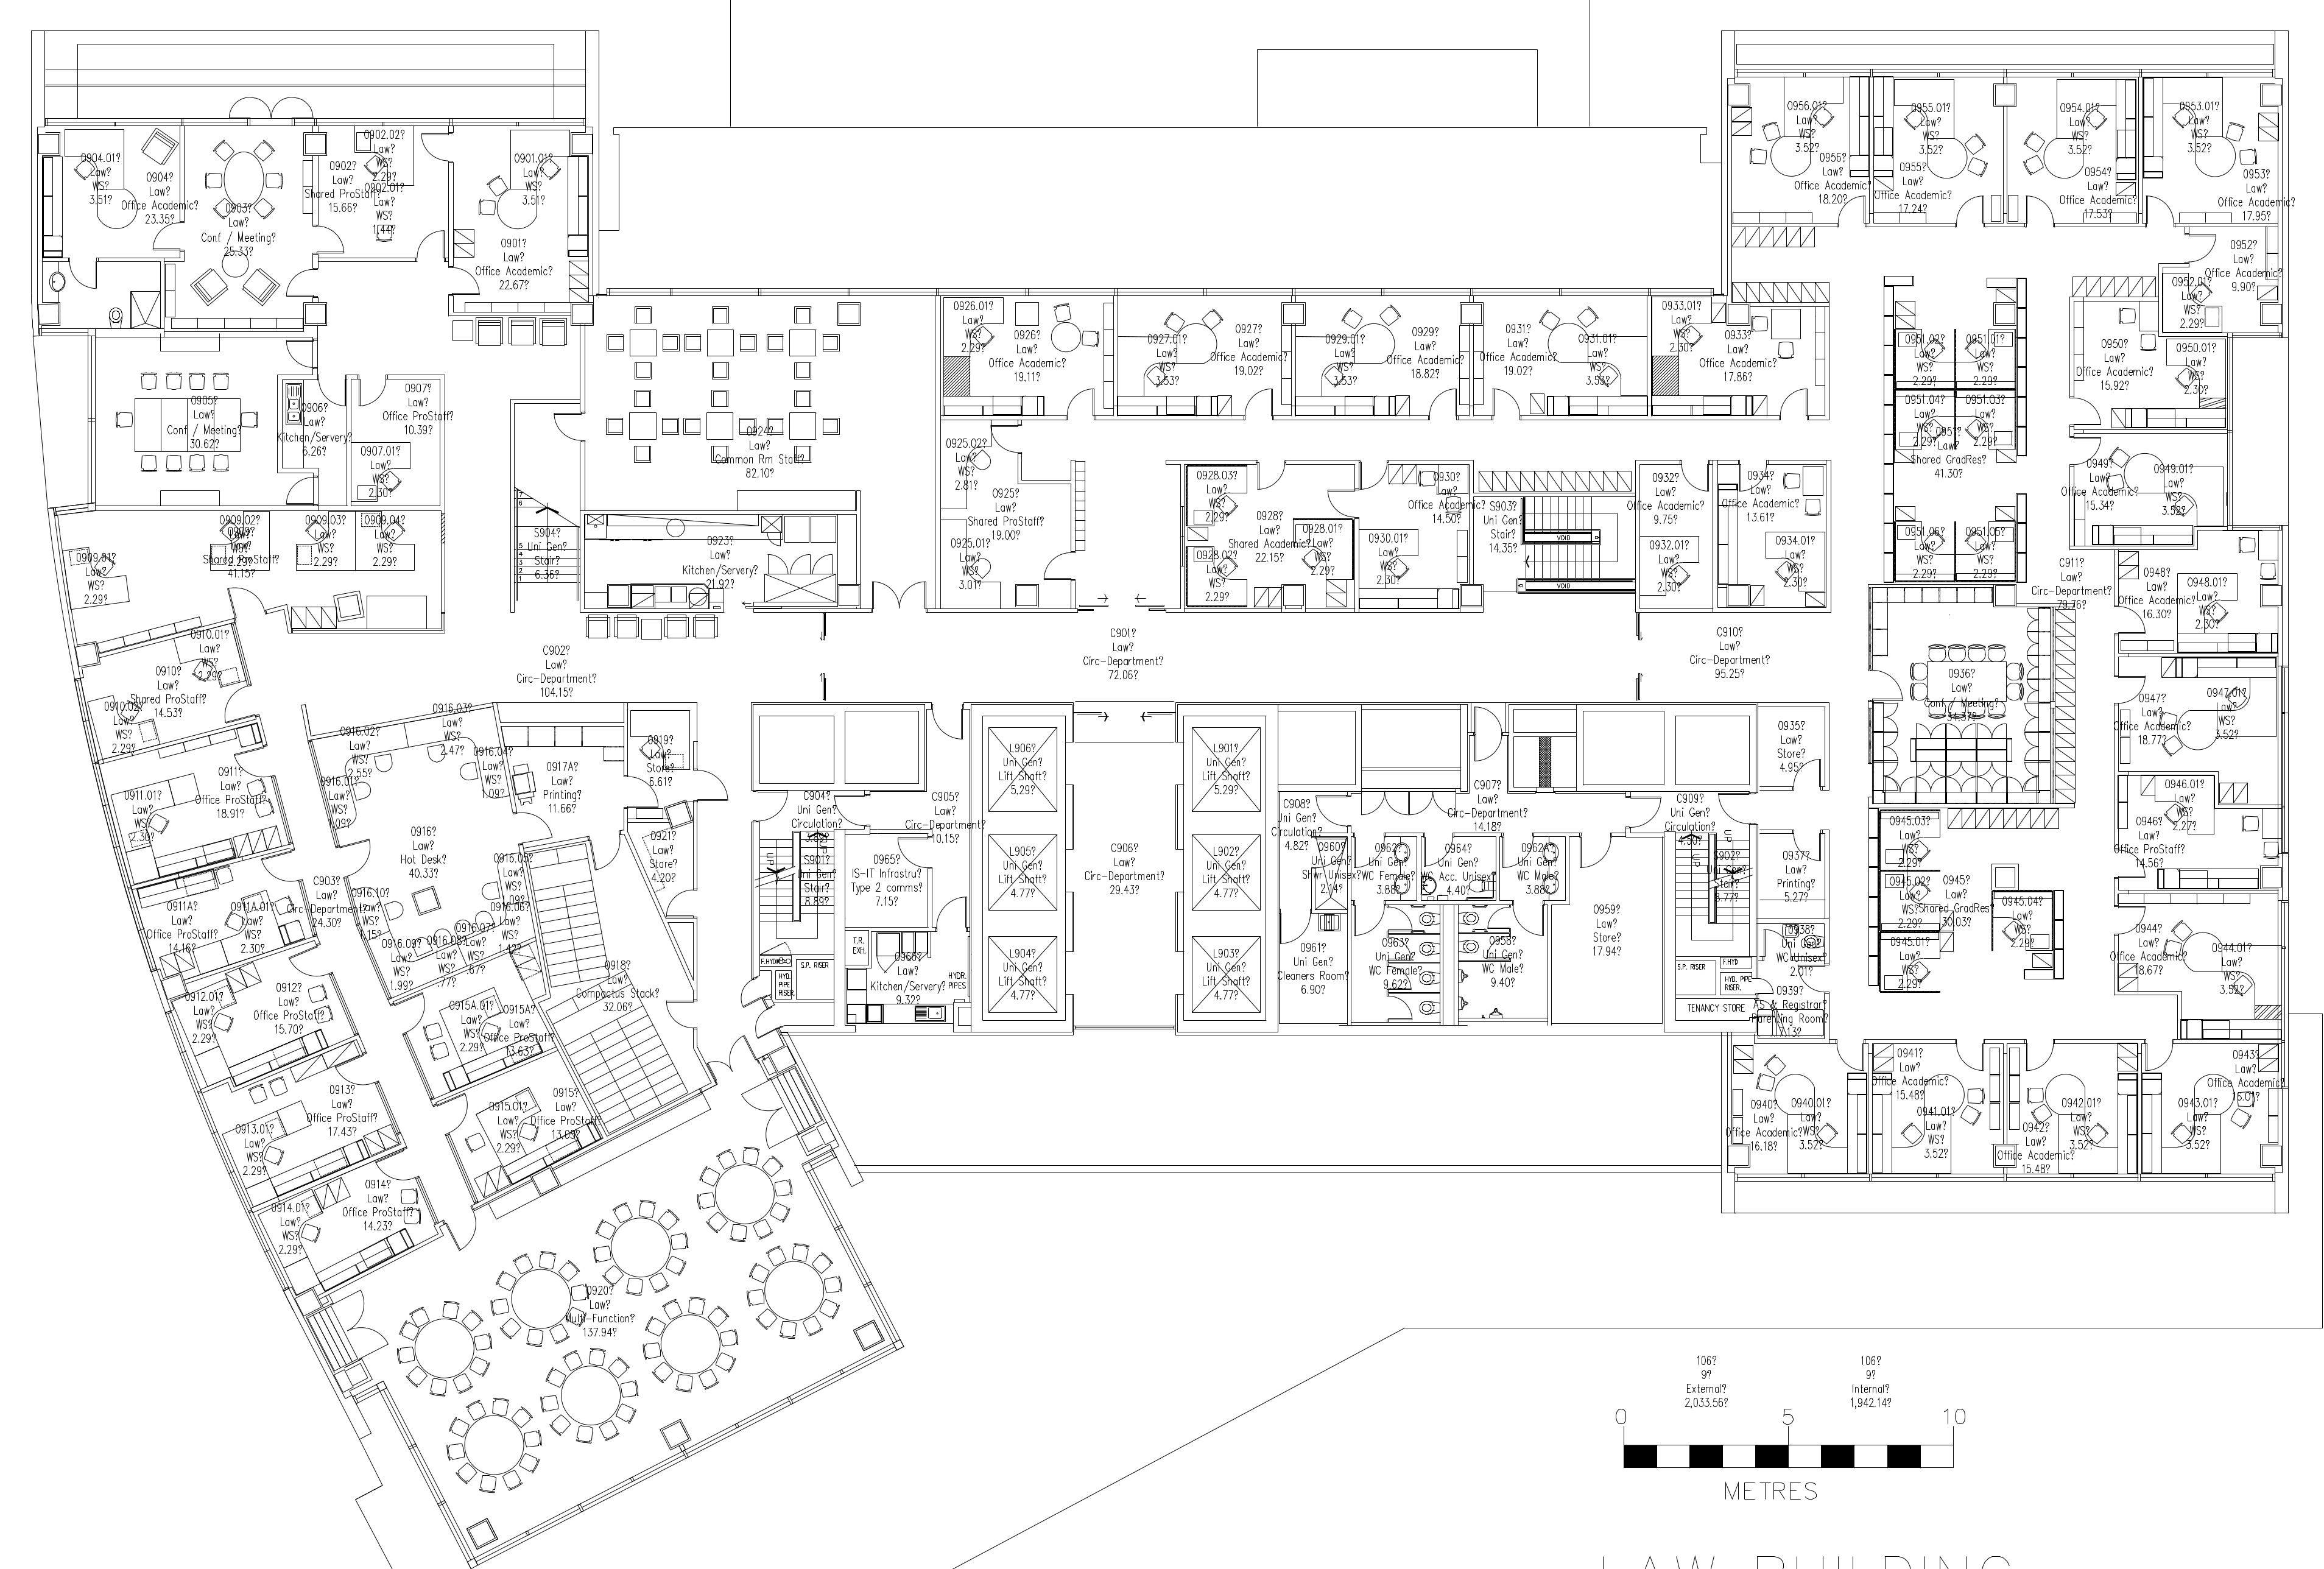door: (728, 1079, 794, 1149), (331, 1289, 396, 1359), (224, 91, 318, 119), (705, 1033, 758, 1082), (870, 574, 931, 616), (285, 939, 329, 982), (338, 832, 380, 877), (387, 989, 427, 1037), (431, 1089, 471, 1136), (441, 1205, 481, 1252), (217, 683, 259, 727), (233, 739, 275, 783), (763, 550, 835, 574), (583, 828, 623, 870), (375, 1147, 420, 1184), (331, 1056, 376, 1093), (226, 581, 269, 618), (257, 849, 303, 884), (1577, 830, 1612, 876), (1500, 830, 1535, 876), (1362, 790, 1410, 821), (1409, 790, 1456, 821), (891, 837, 929, 876), (1421, 830, 1458, 870), (929, 709, 968, 746), (931, 897, 968, 935), (730, 970, 765, 1010), (627, 772, 662, 809), (696, 765, 731, 802), (1353, 898, 1388, 935), (1510, 904, 1545, 940), (1869, 667, 1906, 702), (1038, 546, 1071, 585), (1314, 792, 1348, 830), (1279, 909, 1314, 944), (758, 786, 791, 823), (831, 792, 864, 828), (66, 256, 100, 291), (313, 221, 347, 256), (285, 264, 318, 299), (282, 338, 315, 373), (411, 229, 445, 264), (448, 263, 481, 298), (355, 373, 389, 408), (417, 130, 450, 165), (551, 412, 585, 447), (1629, 793, 1663, 828), (1789, 756, 1822, 792), (1789, 828, 1822, 863), (1951, 1038, 1985, 1073), (2114, 848, 2147, 883), (2068, 434, 2102, 469), (2184, 231, 2217, 266), (2144, 194, 2177, 229), (1955, 193, 1988, 228), (1736, 459, 1769, 494), (1677, 459, 1710, 494), (149, 219, 182, 252), (313, 375, 347, 408), (1761, 928, 1794, 961), (1794, 963, 1827, 996), (1831, 1038, 1864, 1072), (2023, 1038, 2056, 1072), (2142, 1037, 2175, 1070), (2116, 672, 2149, 706), (2114, 602, 2147, 636), (2021, 194, 2054, 228), (1776, 387, 1809, 420), (2070, 394, 2102, 429), (665, 996, 693, 1035), (1064, 385, 1095, 419), (1242, 387, 1274, 420), (1717, 793, 1748, 827), (2114, 905, 2146, 939), (1836, 194, 1867, 228), (285, 475, 318, 504), (1426, 387, 1456, 420), (1491, 387, 1521, 420), (1325, 485, 1354, 518), (1256, 459, 1286, 492), (665, 884, 693, 919), (1360, 457, 1388, 492), (752, 1005, 777, 1044), (991, 422, 1019, 455), (1384, 995, 1416, 1021)
